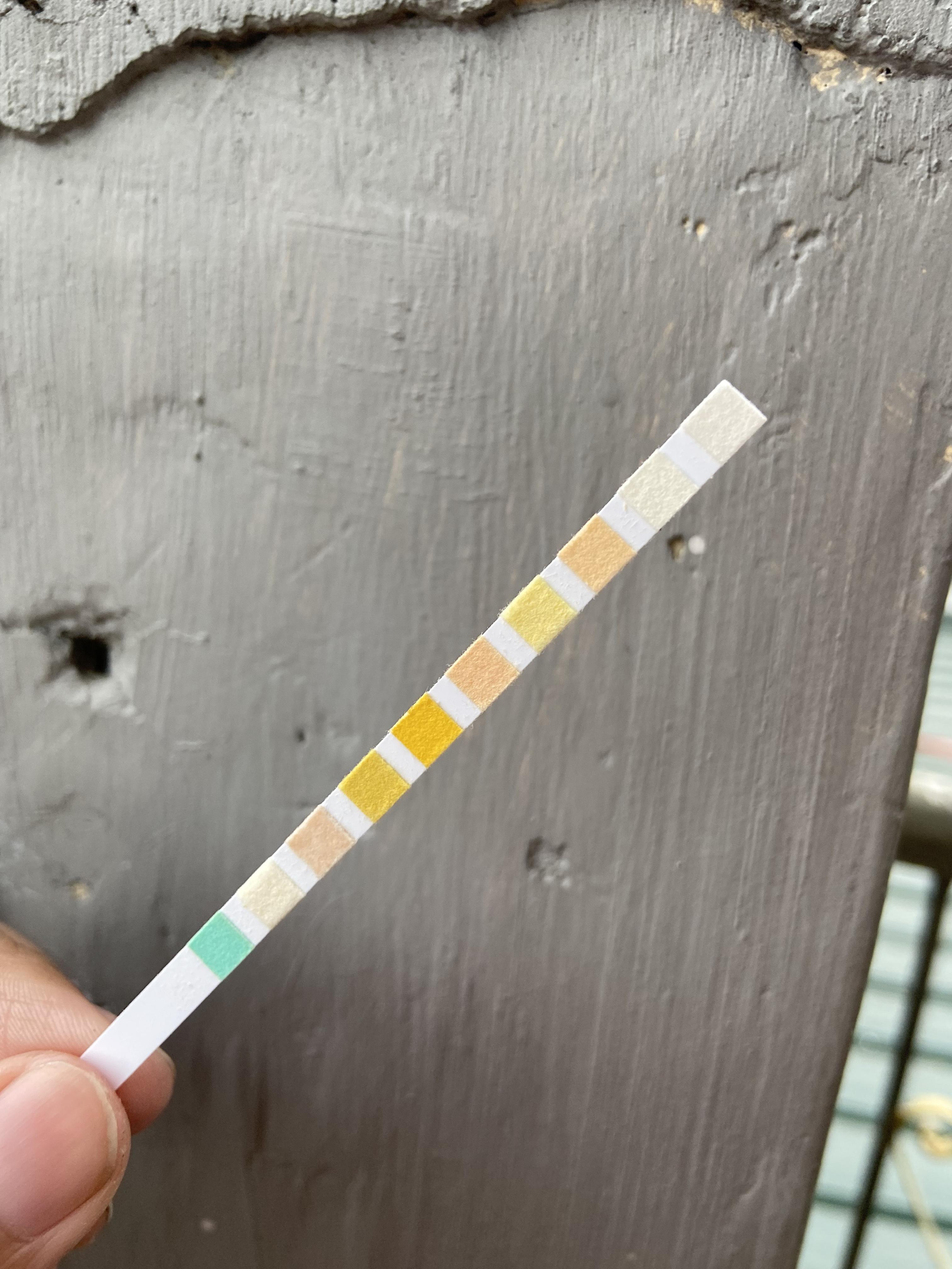Bilirubin: (252, 876, 286, 911)
Blood: (407, 712, 445, 749)
Glucose: (203, 930, 243, 961)
Ketone: (302, 825, 337, 860)
Leukocytes: (703, 402, 744, 443)
Nitrite: (637, 470, 681, 509)
Protein: (518, 595, 557, 634)
SpGravity: (355, 767, 390, 807)
Urobilinogen: (576, 535, 617, 572)
pH: (462, 655, 503, 693)
strip: (80, 380, 767, 1090)
